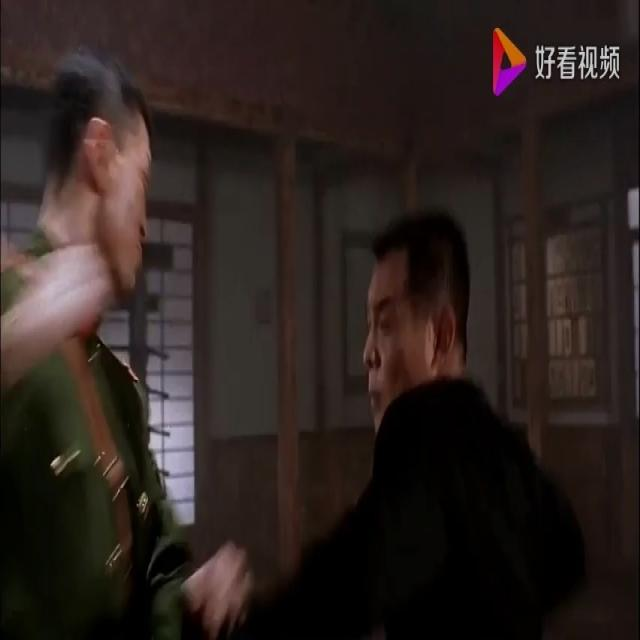fight: (0, 42, 587, 638)
